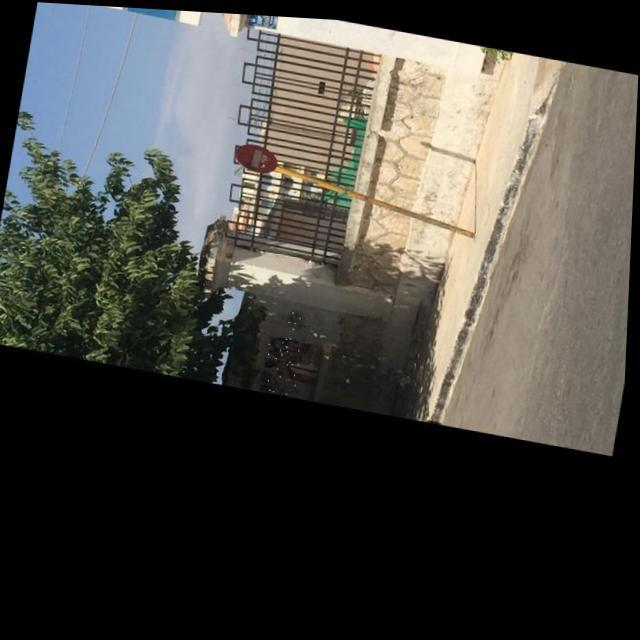-: (262, 330, 309, 394), (286, 303, 311, 328)
